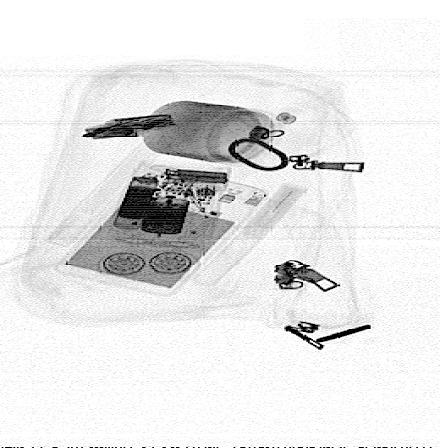Powerbank: (49, 162, 273, 297)
